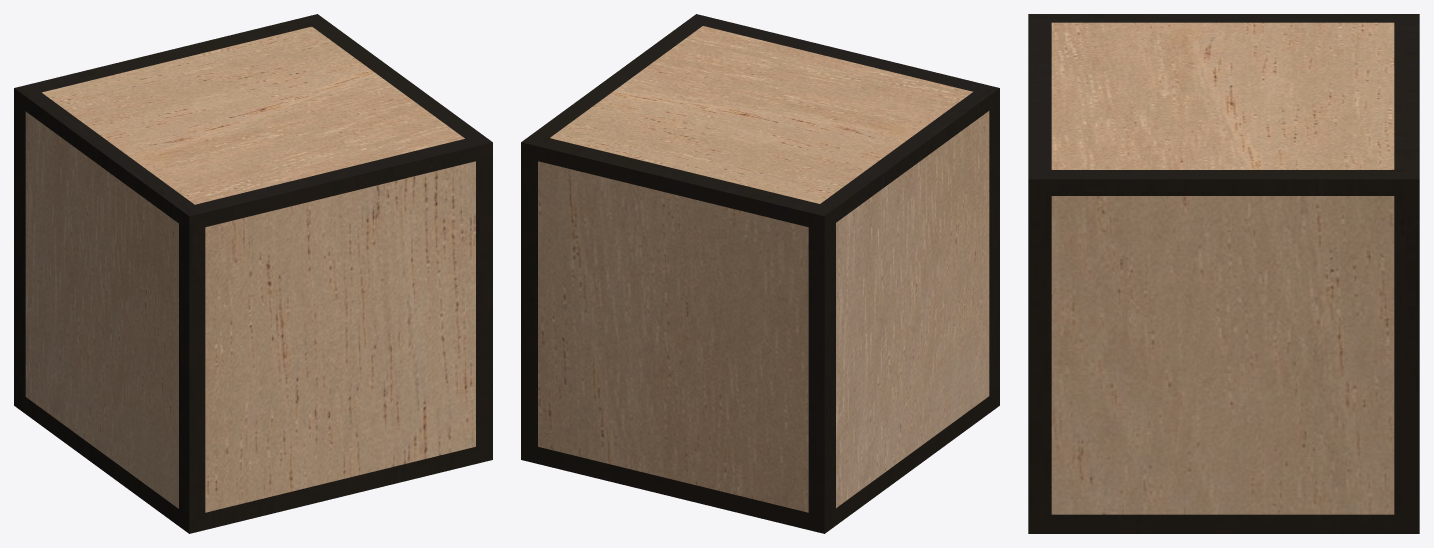
File: ToyBlock 1.fbx
The picture shows the model from 3 angles, left to right: view 1: azimuth 30°, elevation 25°; view 2: azimuth 150°, elevation 25°; view 3: azimuth 270°, elevation 25°; orthographic projection. The views are drawn at different scales.
Parts seen in each view (by area): view 1: pCube1; view 2: pCube1; view 3: pCube1.
Boxes of the visible parts, left/top/right/bottom form: pCube1: left=14, top=14, right=492, bottom=533; pCube1: left=521, top=14, right=999, bottom=533; pCube1: left=1028, top=14, right=1419, bottom=533.
Size of the model in its own units: 5.09 by 5.09 by 5.09.
3 materials, 3 textured.
